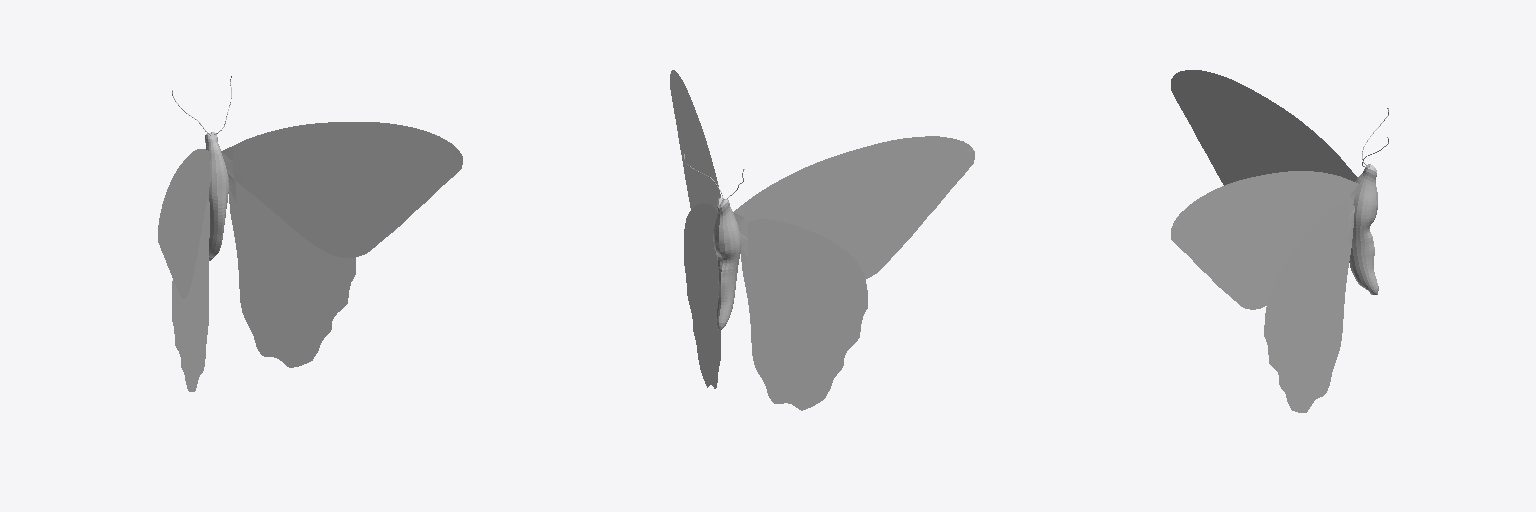
The model's file is 2000cnt_butterfly.obj.
3 views of the same model, side by side, from view 1: azimuth 30°, elevation 25°; view 2: azimuth 150°, elevation 25°; view 3: azimuth 270°, elevation 25° (orthographic).
Parts seen in each view (by area): view 1: bottomWings polySurface21; view 2: bottomWings polySurface21; view 3: bottomWings polySurface21.
Boxes of the visible parts, <box> form: bottomWings polySurface21: <box>158,76,462,391</box>; bottomWings polySurface21: <box>670,70,974,410</box>; bottomWings polySurface21: <box>1171,70,1388,412</box>.
Bounding box in the file's own units: 19.84 × 16.6 × 12.28.